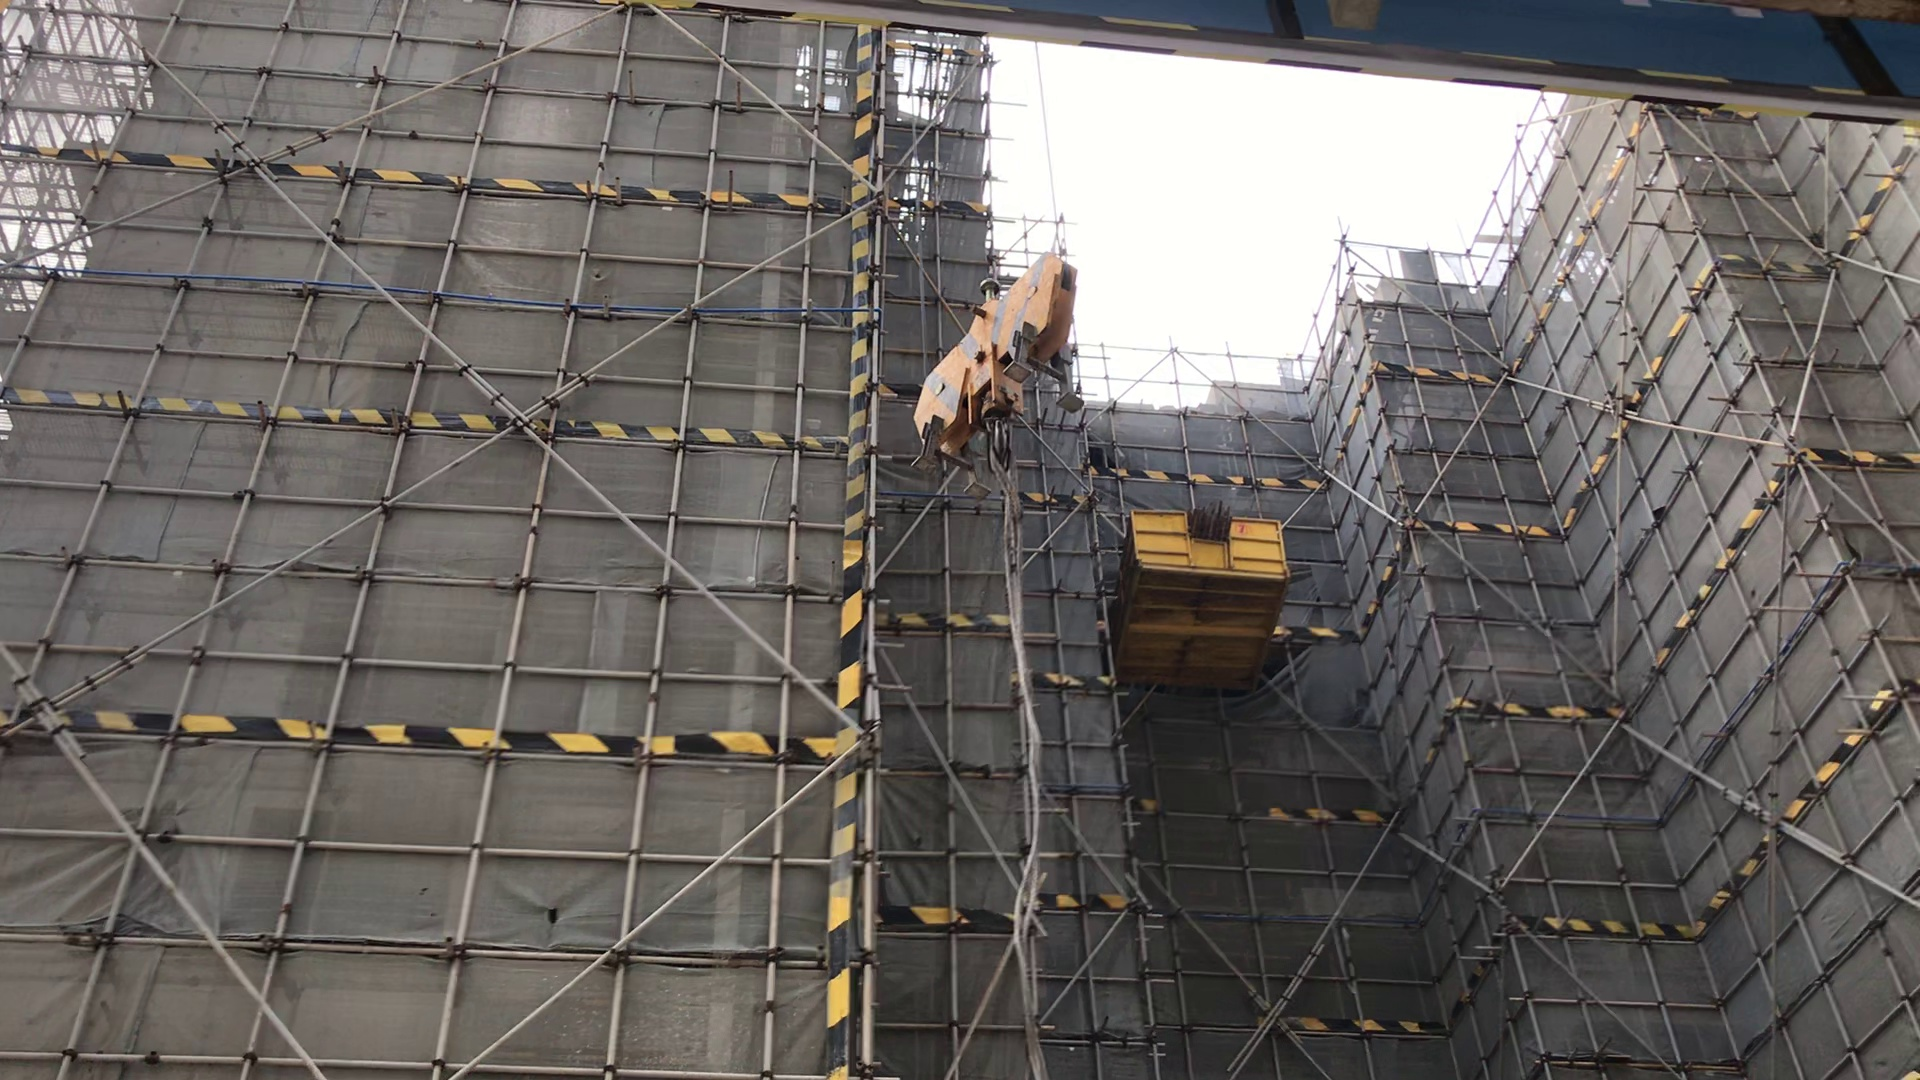hook: (898, 248, 1085, 476)
